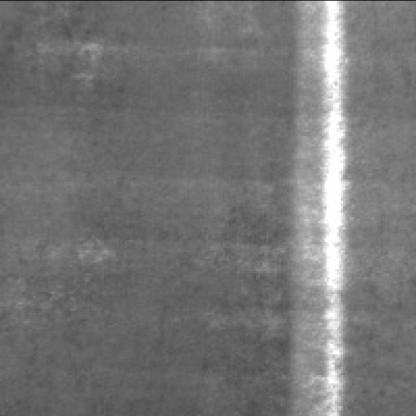scratches: (298, 0, 352, 412)
